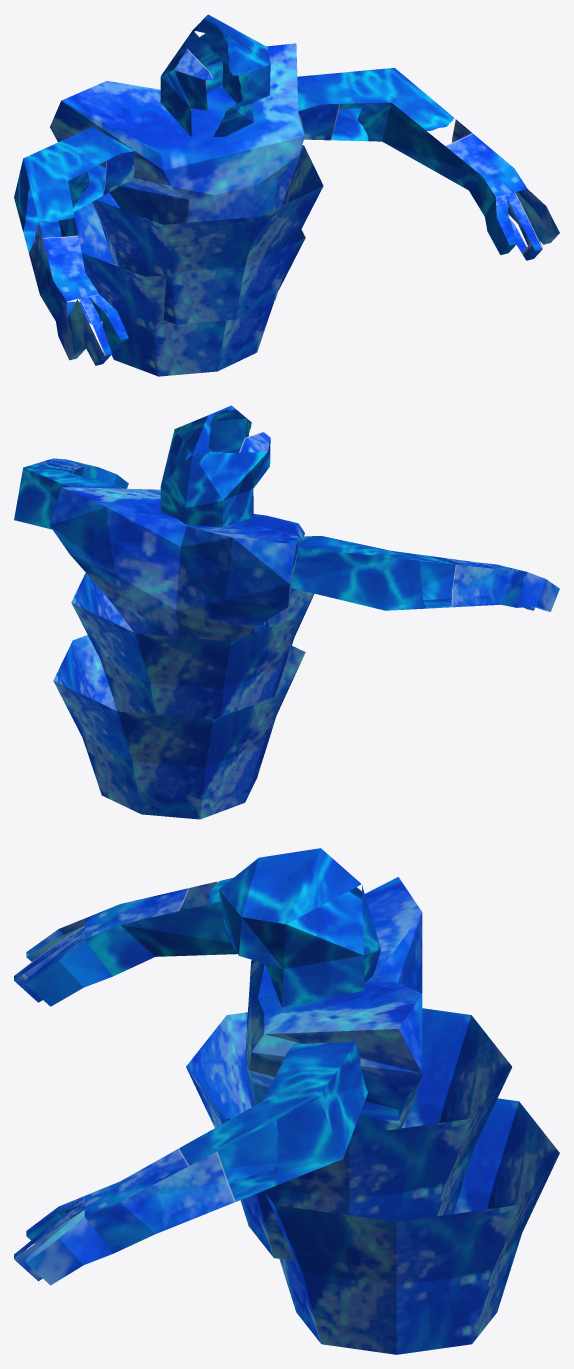
Rendered from jengu.obj.
3 views of the same model, one above another, from view 1: azimuth 30°, elevation 25°; view 2: azimuth 150°, elevation 25°; view 3: azimuth 270°, elevation 25° (orthographic). The views are drawn at different scales.
Visible parts, largest first — view 1: Body, Effect01, ArmLeft, ArmRight, Effect02, Head; view 2: Body, Effect02, Effect01, ArmRight, Head, ArmLeft; view 3: Effect02, ArmLeft, Effect01, Body, Head, ArmRight.
Part boxes in pixels (x1,y1,x2,y2): Body: (50, 43, 304, 224); Effect01: (92, 145, 323, 324); ArmLeft: (297, 68, 559, 260); ArmRight: (14, 127, 135, 365); Effect02: (74, 202, 305, 376); Head: (160, 14, 270, 136); Body: (50, 487, 304, 641); Effect02: (53, 635, 305, 819); Effect01: (71, 573, 314, 719); ArmRight: (291, 536, 559, 611); Head: (160, 405, 270, 527); ArmLeft: (14, 458, 128, 529); Effect02: (265, 1098, 559, 1354); ArmLeft: (14, 1041, 367, 1285); Effect01: (186, 1008, 511, 1260); Body: (246, 877, 422, 1135); Head: (219, 848, 380, 1007); ArmRight: (14, 877, 237, 1006).
Size of the model in its own units: 2.51 by 1.74 by 1.86.
